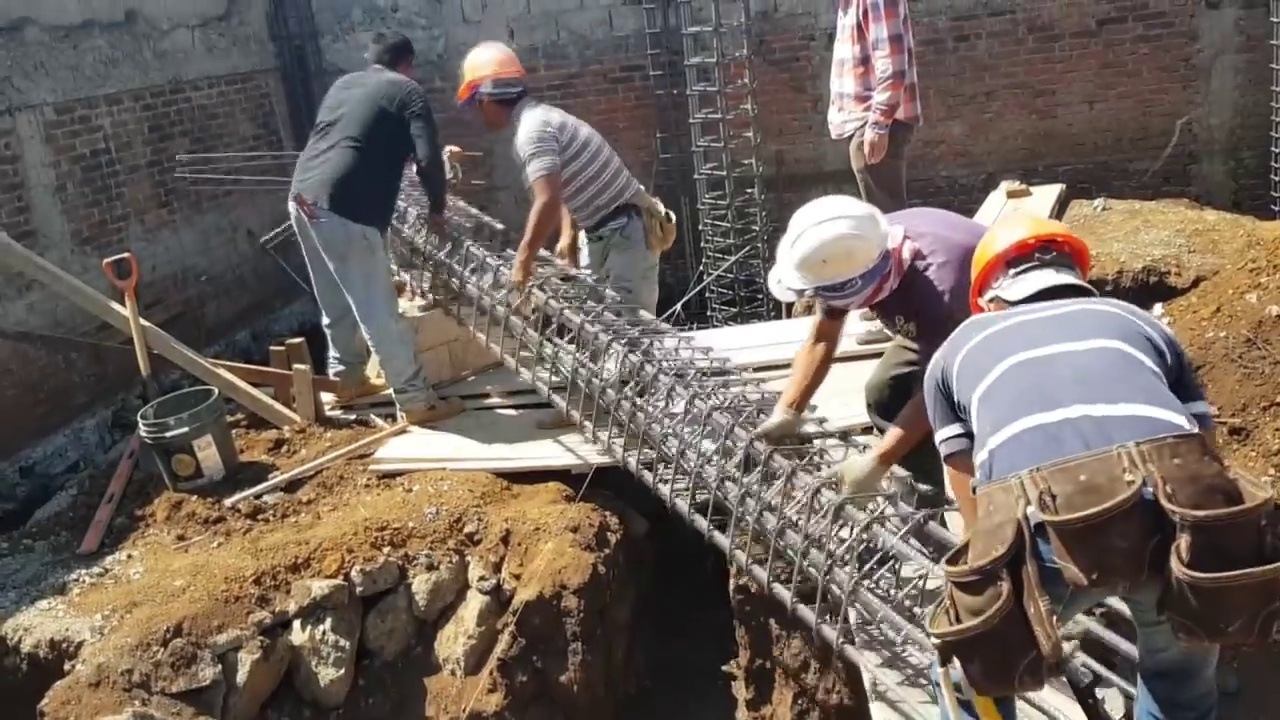helmet: (772, 190, 887, 294), (973, 213, 1091, 307), (454, 38, 523, 106)
helmet-off: (357, 32, 424, 77)
helmet-on: (768, 192, 916, 313), (963, 210, 1101, 319), (453, 34, 528, 140)
person: (926, 213, 1274, 720), (767, 185, 985, 512), (454, 33, 676, 318), (286, 30, 438, 431), (822, 1, 922, 216)
